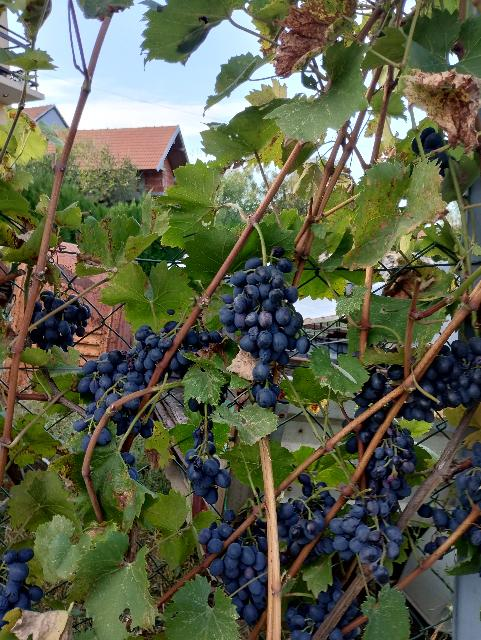grapes: (220, 246, 310, 409), (74, 321, 178, 431), (279, 472, 336, 561), (160, 329, 222, 381), (185, 436, 231, 504), (111, 398, 155, 439)
